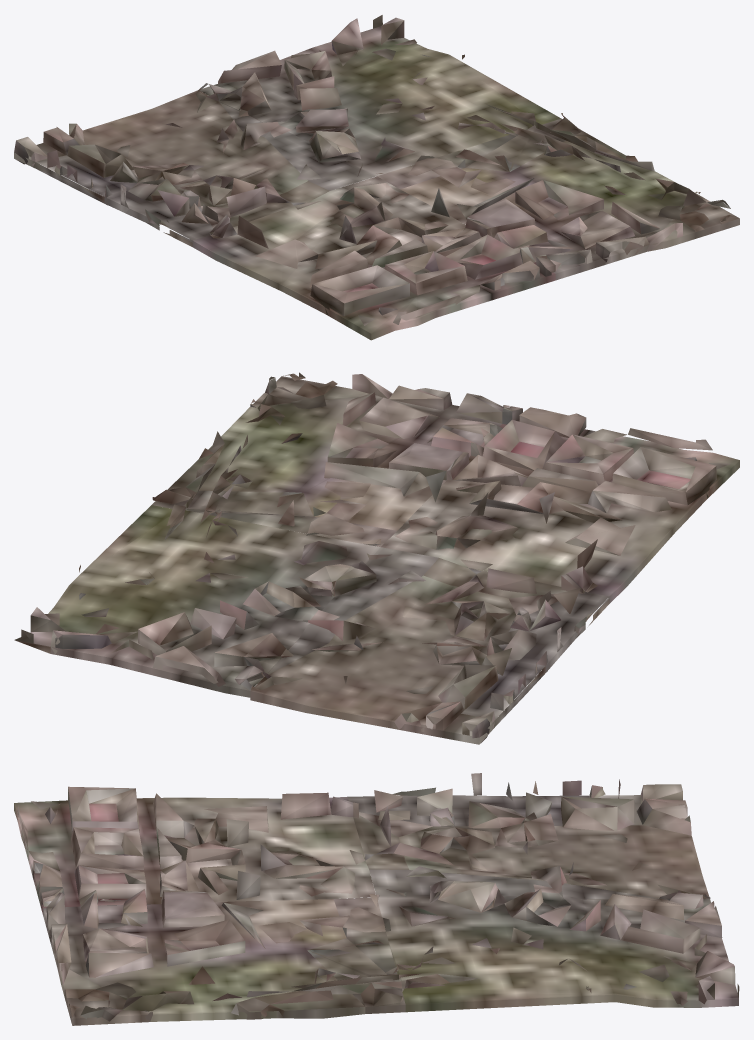
The picture shows the model from 3 angles, top to bottom: view 1: azimuth 30°, elevation 25°; view 2: azimuth 150°, elevation 25°; view 3: azimuth 270°, elevation 25°; orthographic projection. The views are drawn at different scales.
Visible parts, largest first — view 1: Mesh_0; view 2: Mesh_0; view 3: Mesh_0.
Boxes of the visible parts, left/top/right/bottom form: Mesh_0: left=14, top=15, right=739, bottom=340; Mesh_0: left=14, top=372, right=739, bottom=744; Mesh_0: left=14, top=773, right=739, bottom=1025.
Size of the model in its own units: 1065 by 119 by 1320.
Materials: 1 (1 with a texture image).
